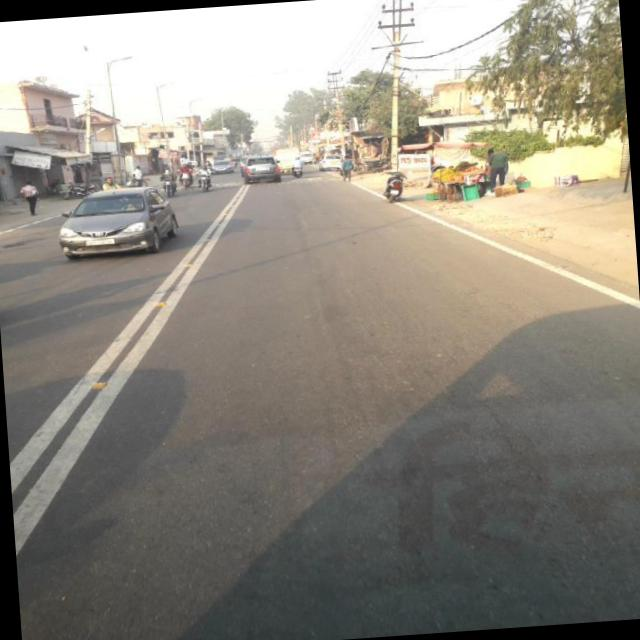pothole: (402, 300, 548, 499)
